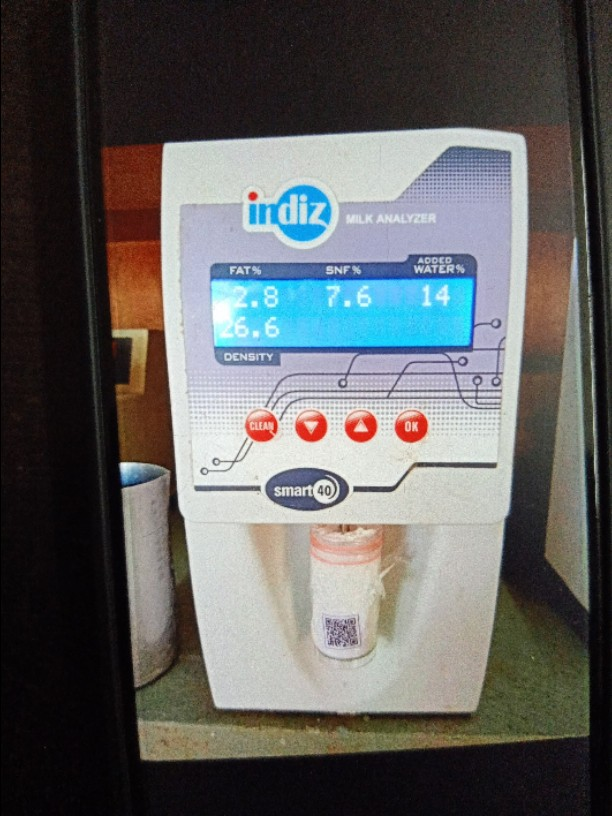lcd: (206, 274, 480, 350)
qr: (316, 614, 373, 652)
